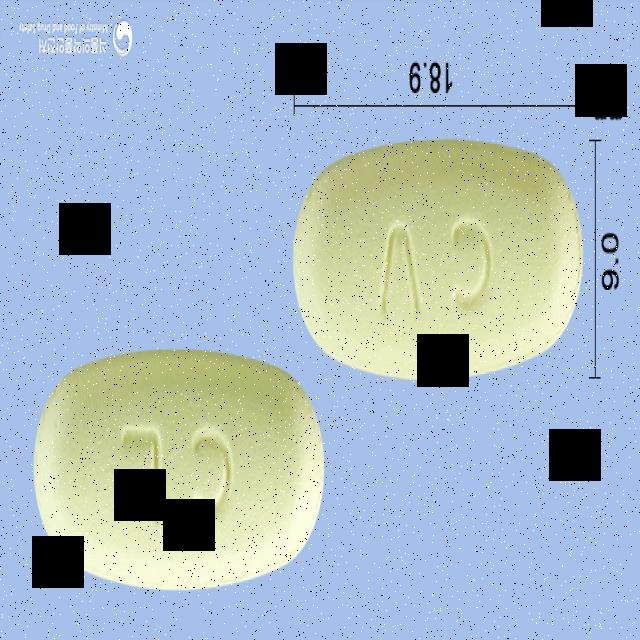Cllaricin: (288, 139, 584, 386), (33, 352, 326, 596)
